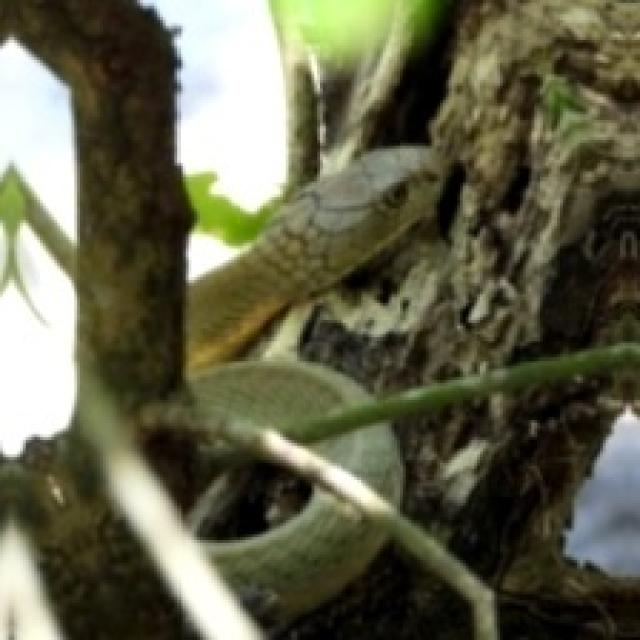king cobra: (189, 146, 434, 363), (206, 489, 386, 623), (191, 360, 363, 431)
